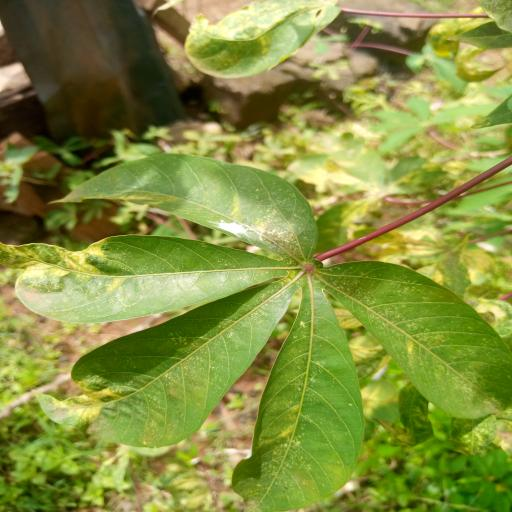Cassava_Mosaic: (14, 154, 512, 512)
